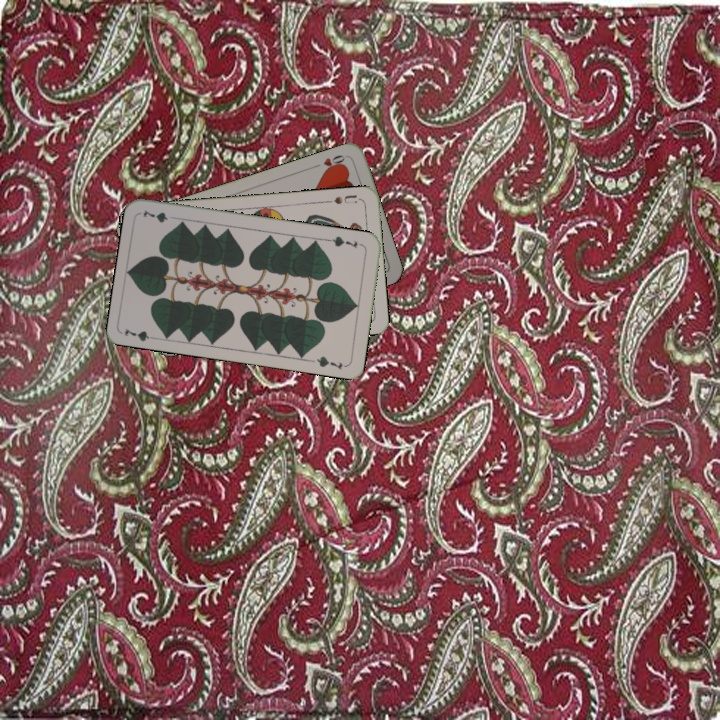G7: (121, 324, 161, 344), (325, 232, 360, 251)
HO: (309, 151, 347, 174)
SU: (322, 191, 359, 207)
